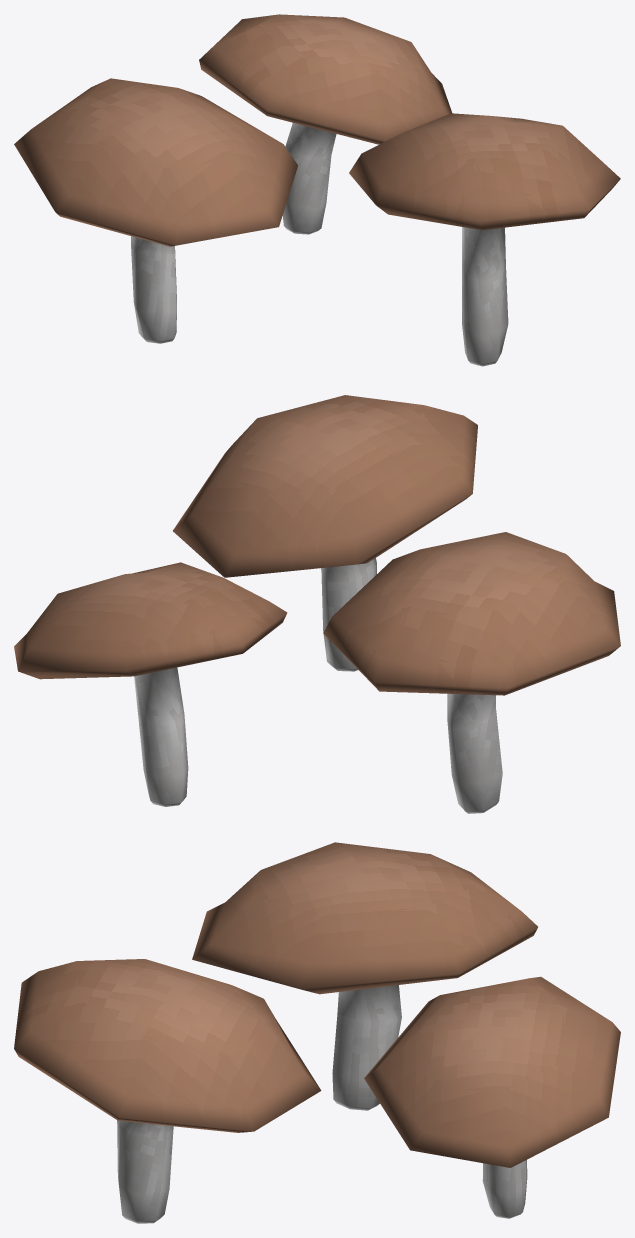
The model's file is MushroomBrownCluster.fbx.
3 views of the same model, one above another, from view 1: azimuth 30°, elevation 25°; view 2: azimuth 150°, elevation 25°; view 3: azimuth 270°, elevation 25° (orthographic). The views are drawn at different scales.
Visible parts, largest first — view 1: brown_mushroom_cluster; view 2: brown_mushroom_cluster; view 3: brown_mushroom_cluster.
Boxes of the visible parts, left/top/right/bottom form: brown_mushroom_cluster: left=14, top=14, right=620, bottom=366; brown_mushroom_cluster: left=14, top=395, right=620, bottom=813; brown_mushroom_cluster: left=14, top=842, right=620, bottom=1223.
Size of the model in its own units: 0.3594 by 0.1657 by 0.3809.
